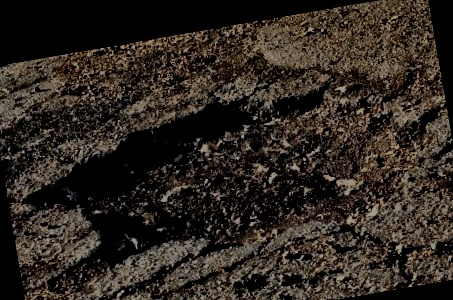pothole: (11, 62, 451, 282)
